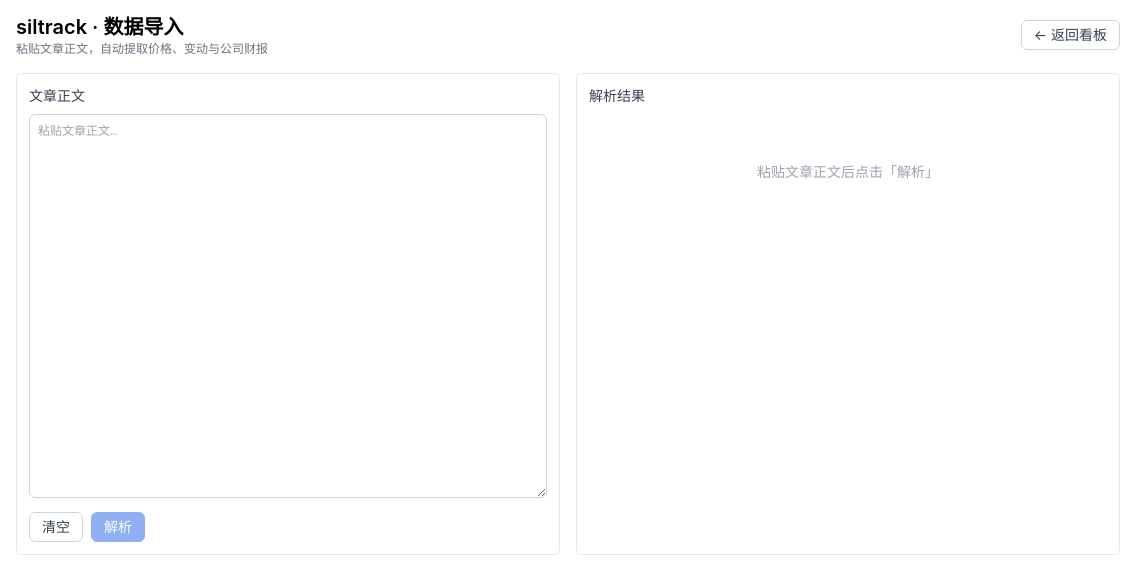
Scenario: ImportPage › parses pasted article and shows price rows
Type "DMC：14700-15500元/吨； 107胶：15000-15500元/吨； （价格统计时间：4月28日）" into the text box with placeholder "粘贴文章正文…" at (288, 306), box [29,114,547,498]
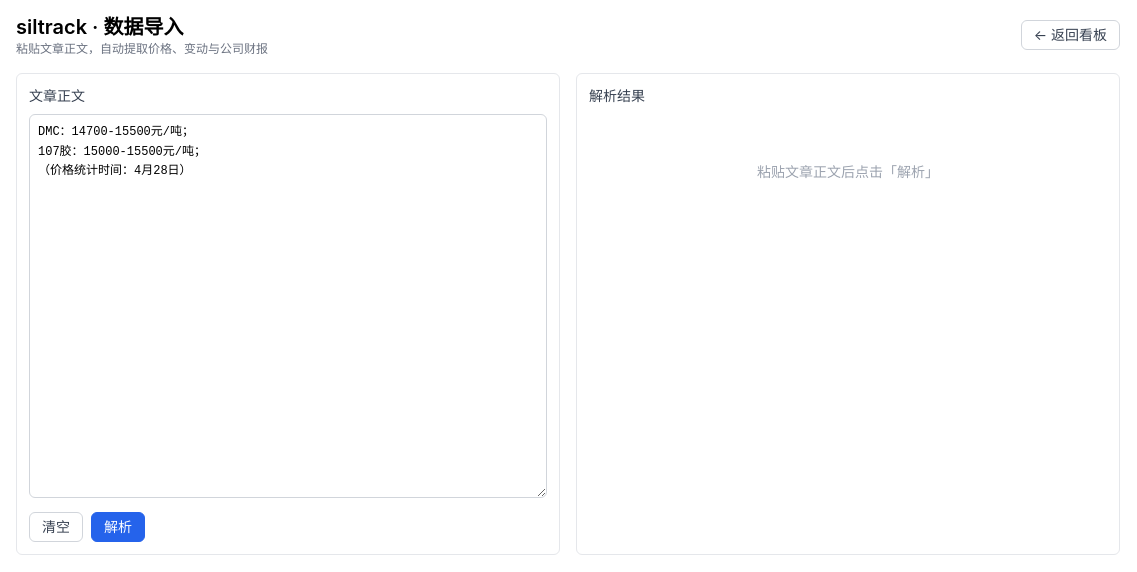
Click the button "解析" at (118, 527), box [91,512,145,542]
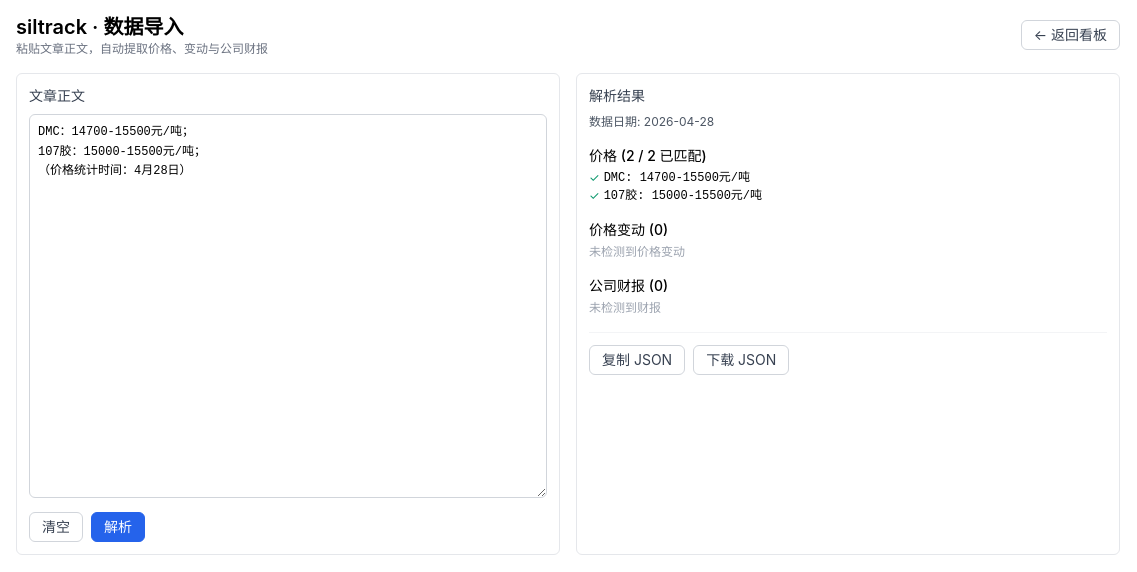
Expected: the text "DMC: 14700-15500元/吨" is shown, [604,170,750,186]
Expected: the text "107胶: 15000-15500元/吨" is shown, [604,188,762,204]
